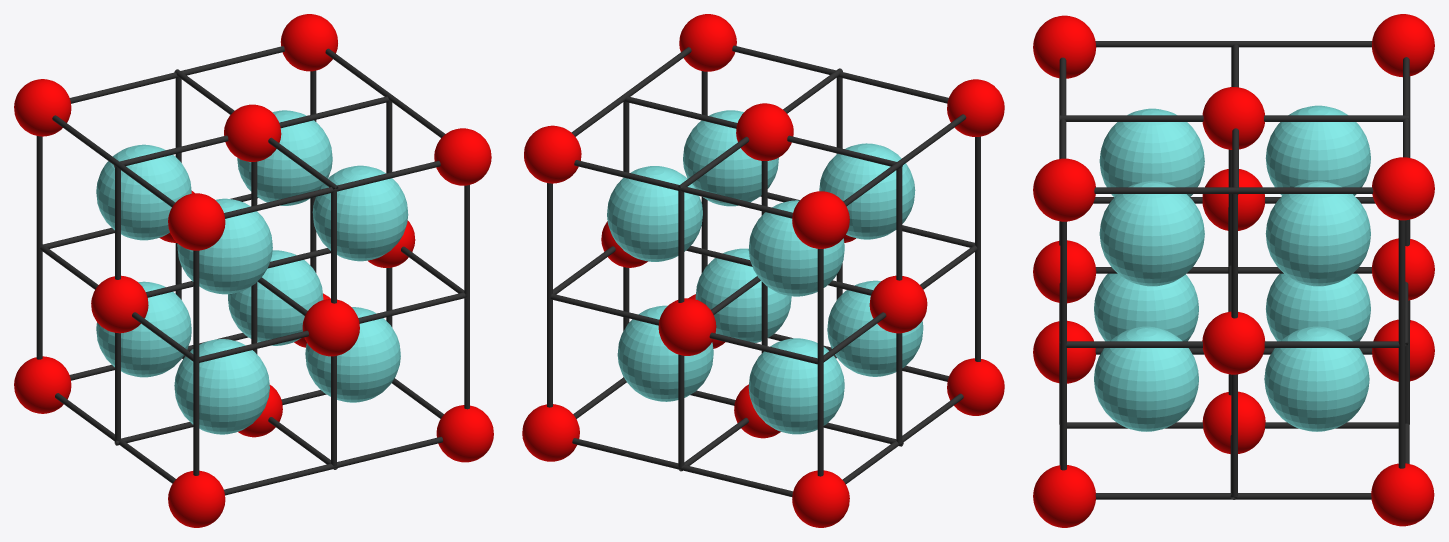
Rendered from CaF2.glb.
3 renders of one model, left to right at view 1: azimuth 30°, elevation 25°; view 2: azimuth 150°, elevation 25°; view 3: azimuth 270°, elevation 25°, orthographic. The views are drawn at different scales.
Visible parts, largest first — view 1: Sphere.034, Sphere.035, Sphere.007, Sphere.001, Sphere.005, Sphere, Sphere.008, Sphere.009, Sphere.004, Sphere.006, Cylinder.014, Cylinder.013 (+20 smaller); view 2: Sphere.034, Sphere.035, Sphere.006, Sphere.004, Sphere, Sphere.005, Sphere.009, Sphere.008, Sphere.001, Sphere.007, Cylinder.013, Cylinder.008 (+20 smaller); view 3: Sphere.034, Sphere.035, Sphere.001, Sphere.004, Sphere.008, Sphere.009, Sphere.005, Sphere, Sphere.007, Sphere.006, Cylinder.019, Cylinder.009 (+13 smaller).
Part boxes in pixels (left/top/right/bottom): Sphere.034: left=14, top=14, right=493, bottom=527; Sphere.035: left=91, top=104, right=415, bottom=437; Sphere.007: left=174, top=339, right=269, bottom=434; Sphere.001: left=312, top=165, right=408, bottom=261; Sphere.005: left=96, top=144, right=191, bottom=240; Sphere: left=177, top=198, right=272, bottom=294; Sphere.008: left=305, top=307, right=400, bottom=402; Sphere.009: left=228, top=250, right=323, bottom=345; Sphere.004: left=237, top=110, right=332, bottom=205; Sphere.006: left=96, top=281, right=191, bottom=377; Cylinder.014: left=193, top=250, right=199, bottom=475; Cylinder.013: left=36, top=136, right=42, bottom=359; Sphere.034: left=522, top=14, right=1004, bottom=527; Sphere.035: left=601, top=103, right=927, bottom=438; Sphere.006: left=748, top=338, right=844, bottom=434; Sphere.004: left=607, top=166, right=702, bottom=261; Sphere: left=819, top=143, right=915, bottom=239; Sphere.005: left=748, top=200, right=844, bottom=296; Sphere.009: left=617, top=305, right=713, bottom=401; Sphere.008: left=695, top=248, right=791, bottom=342; Sphere.001: left=683, top=110, right=778, bottom=206; Sphere.007: left=827, top=280, right=923, bottom=376; Cylinder.013: left=817, top=249, right=823, bottom=476; Cylinder.008: left=678, top=190, right=684, bottom=467; Sphere.034: left=1033, top=14, right=1434, bottom=527; Sphere.035: left=1033, top=87, right=1434, bottom=453; Sphere.001: left=1099, top=181, right=1204, bottom=286; Sphere.004: left=1265, top=181, right=1370, bottom=286; Sphere.008: left=1094, top=326, right=1198, bottom=431; Sphere.009: left=1264, top=326, right=1369, bottom=431; Sphere.005: left=1265, top=105, right=1370, bottom=195; Sphere: left=1099, top=108, right=1204, bottom=197; Sphere.007: left=1094, top=273, right=1198, bottom=341; Sphere.006: left=1266, top=273, right=1370, bottom=341; Cylinder.019: left=1060, top=115, right=1408, bottom=121; Cylinder.009: left=1398, top=220, right=1405, bottom=468.
Bounding box in the file's own units: 3.18 × 3.16 × 3.16.
